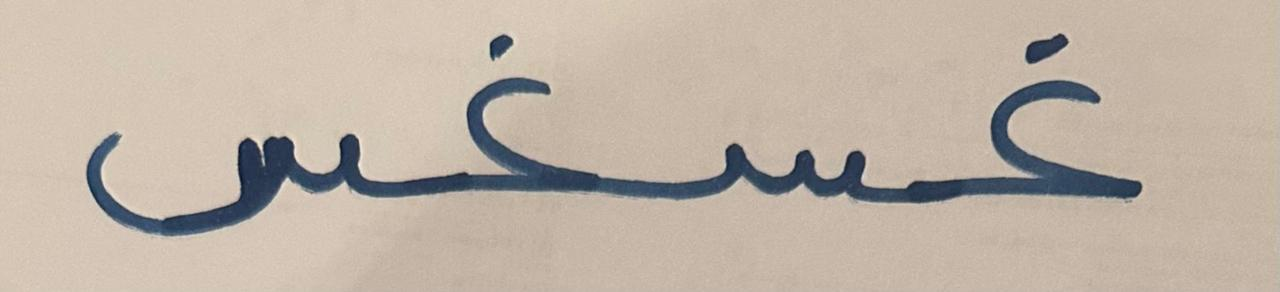ghain: (922, 3, 1184, 262), (400, 14, 653, 260)
sheen: (58, 38, 396, 259), (659, 25, 918, 259)
